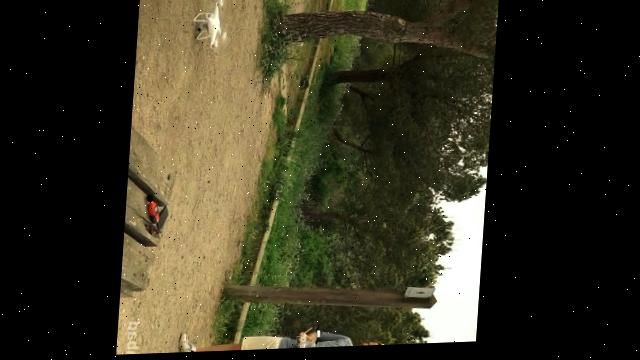drone: (191, 0, 231, 56)
